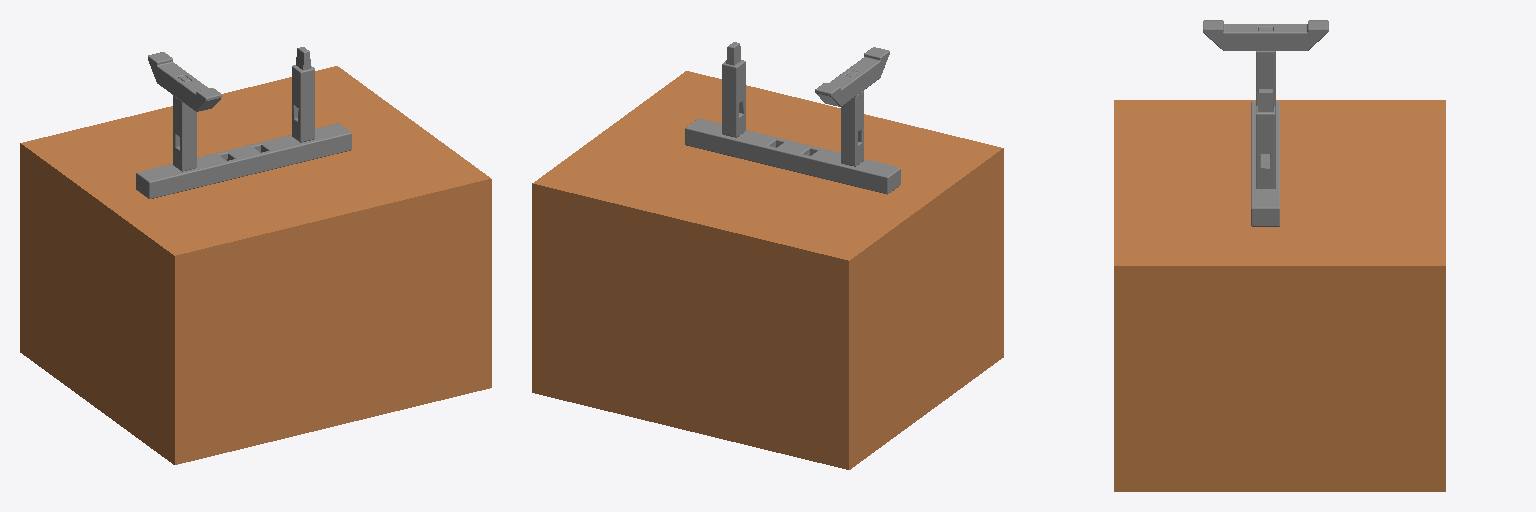
URDF robot description (table_beam_2x_1_scene_0040):
<?xml version="1.0"?>
<robot name="table_beam_2x_1_scene_0040">
  <link name="box">
    <visual>
      <material name="wood"><color rgba="0.82 0.56 0.35 1.0"/></material>
      <origin xyz="0 0 0"/>
      <geometry><box size="0.475 0.4 0.3"/></geometry>
    </visual>
    <collision>
      <origin xyz="0 0 0"/>
      <geometry><box size="0.475 0.4 0.3"/></geometry>
    </collision>
    <inertial>
      <mass value="500"/>
      <friction value="1.0"/>
      <inertia ixx="1000.0" ixy="0.0" ixz="0.0" iyy="1000.0" iyz="0.0" izz="1000.0"/>
    </inertial>
  </link>
  <link name="part_6_canonical">
    <visual>
      <origin xyz="0 0 0" rpy="0 0 0"/>
      <geometry><mesh filename="../../6/6_canonical.obj" scale="1 1 1"/></geometry>
      <material name="placed_0"><color rgba="0.6 0.6 0.6 1.0"/></material>
    </visual>
    <collision>
      <origin xyz="0 0 0" rpy="0 0 0"/>
      <geometry><mesh filename="../../6/6_canonical.obj" scale="1 1 1"/></geometry>
    </collision>
  </link>
  <joint name="part_6_canonical_joint" type="fixed">
    <parent link="box"/>
    <child link="part_6_canonical"/>
    <origin xyz="-0.027656 -0.017360 0.162666" rpy="0.000000 0.000000 0.000000"/>
  </joint>
  <link name="part_2_canonical">
    <visual>
      <origin xyz="0 0 0" rpy="0 0 0"/>
      <geometry><mesh filename="../../2/2_canonical.obj" scale="1 1 1"/></geometry>
      <material name="placed_1"><color rgba="0.6 0.6 0.6 1.0"/></material>
    </visual>
    <collision>
      <origin xyz="0 0 0" rpy="0 0 0"/>
      <geometry><mesh filename="../../2/2_canonical.obj" scale="1 1 1"/></geometry>
    </collision>
  </link>
  <joint name="part_2_canonical_joint" type="fixed">
    <parent link="box"/>
    <child link="part_2_canonical"/>
    <origin xyz="-0.116583 -0.017360 0.225384" rpy="0.000000 -1.570796 0.000000"/>
  </joint>
  <link name="part_0_canonical">
    <visual>
      <origin xyz="0 0 0" rpy="0 0 0"/>
      <geometry><mesh filename="../../0/0_canonical.obj" scale="1 1 1"/></geometry>
      <material name="placed_2"><color rgba="0.6 0.6 0.6 1.0"/></material>
    </visual>
    <collision>
      <origin xyz="0 0 0" rpy="0 0 0"/>
      <geometry><mesh filename="../../0/0_canonical.obj" scale="1 1 1"/></geometry>
    </collision>
  </link>
  <joint name="part_0_canonical_joint" type="fixed">
    <parent link="box"/>
    <child link="part_0_canonical"/>
    <origin xyz="-0.116556 -0.017360 0.292243" rpy="1.570796 0.000000 -1.570796"/>
  </joint>
  <link name="part_3_hull_0">
    <visual>
      <origin xyz="0 0 0" rpy="0 0 0"/>
      <geometry><mesh filename="../../3/coacd/decomp_0.obj" scale="1 1 1"/></geometry>
      <material name="placed_3"><color rgba="0.6 0.6 0.6 1.0"/></material>
    </visual>
    <collision>
      <origin xyz="0 0 0" rpy="0 0 0"/>
      <geometry><mesh filename="../../3/coacd/decomp_0.obj" scale="1 1 1"/></geometry>
    </collision>
  </link>
  <joint name="part_3_hull_0_joint" type="fixed">
    <parent link="box"/>
    <child link="part_3_hull_0"/>
    <origin xyz="0.061271 -0.017360 0.225384" rpy="0.000000 -1.570796 0.000000"/>
  </joint>
  <link name="part_3_hull_1">
    <visual>
      <origin xyz="0 0 0" rpy="0 0 0"/>
      <geometry><mesh filename="../../3/coacd/decomp_1.obj" scale="1 1 1"/></geometry>
      <material name="placed_4"><color rgba="0.6 0.6 0.6 1.0"/></material>
    </visual>
    <collision>
      <origin xyz="0 0 0" rpy="0 0 0"/>
      <geometry><mesh filename="../../3/coacd/decomp_1.obj" scale="1 1 1"/></geometry>
    </collision>
  </link>
  <joint name="part_3_hull_1_joint" type="fixed">
    <parent link="box"/>
    <child link="part_3_hull_1"/>
    <origin xyz="0.061271 -0.017360 0.225384" rpy="0.000000 -1.570796 0.000000"/>
  </joint>
  <link name="part_3_hull_2">
    <visual>
      <origin xyz="0 0 0" rpy="0 0 0"/>
      <geometry><mesh filename="../../3/coacd/decomp_10.obj" scale="1 1 1"/></geometry>
      <material name="placed_5"><color rgba="0.6 0.6 0.6 1.0"/></material>
    </visual>
    <collision>
      <origin xyz="0 0 0" rpy="0 0 0"/>
      <geometry><mesh filename="../../3/coacd/decomp_10.obj" scale="1 1 1"/></geometry>
    </collision>
  </link>
  <joint name="part_3_hull_2_joint" type="fixed">
    <parent link="box"/>
    <child link="part_3_hull_2"/>
    <origin xyz="0.061271 -0.017360 0.225384" rpy="0.000000 -1.570796 0.000000"/>
  </joint>
  <link name="part_3_hull_3">
    <visual>
      <origin xyz="0 0 0" rpy="0 0 0"/>
      <geometry><mesh filename="../../3/coacd/decomp_11.obj" scale="1 1 1"/></geometry>
      <material name="placed_6"><color rgba="0.6 0.6 0.6 1.0"/></material>
    </visual>
    <collision>
      <origin xyz="0 0 0" rpy="0 0 0"/>
      <geometry><mesh filename="../../3/coacd/decomp_11.obj" scale="1 1 1"/></geometry>
    </collision>
  </link>
  <joint name="part_3_hull_3_joint" type="fixed">
    <parent link="box"/>
    <child link="part_3_hull_3"/>
    <origin xyz="0.061271 -0.017360 0.225384" rpy="0.000000 -1.570796 0.000000"/>
  </joint>
  <link name="part_3_hull_4">
    <visual>
      <origin xyz="0 0 0" rpy="0 0 0"/>
      <geometry><mesh filename="../../3/coacd/decomp_12.obj" scale="1 1 1"/></geometry>
      <material name="placed_7"><color rgba="0.6 0.6 0.6 1.0"/></material>
    </visual>
    <collision>
      <origin xyz="0 0 0" rpy="0 0 0"/>
      <geometry><mesh filename="../../3/coacd/decomp_12.obj" scale="1 1 1"/></geometry>
    </collision>
  </link>
  <joint name="part_3_hull_4_joint" type="fixed">
    <parent link="box"/>
    <child link="part_3_hull_4"/>
    <origin xyz="0.061271 -0.017360 0.225384" rpy="0.000000 -1.570796 0.000000"/>
  </joint>
  <link name="part_3_hull_5">
    <visual>
      <origin xyz="0 0 0" rpy="0 0 0"/>
      <geometry><mesh filename="../../3/coacd/decomp_2.obj" scale="1 1 1"/></geometry>
      <material name="placed_8"><color rgba="0.6 0.6 0.6 1.0"/></material>
    </visual>
    <collision>
      <origin xyz="0 0 0" rpy="0 0 0"/>
      <geometry><mesh filename="../../3/coacd/decomp_2.obj" scale="1 1 1"/></geometry>
    </collision>
  </link>
  <joint name="part_3_hull_5_joint" type="fixed">
    <parent link="box"/>
    <child link="part_3_hull_5"/>
    <origin xyz="0.061271 -0.017360 0.225384" rpy="0.000000 -1.570796 0.000000"/>
  </joint>
  <link name="part_3_hull_6">
    <visual>
      <origin xyz="0 0 0" rpy="0 0 0"/>
      <geometry><mesh filename="../../3/coacd/decomp_3.obj" scale="1 1 1"/></geometry>
      <material name="placed_9"><color rgba="0.6 0.6 0.6 1.0"/></material>
    </visual>
    <collision>
      <origin xyz="0 0 0" rpy="0 0 0"/>
      <geometry><mesh filename="../../3/coacd/decomp_3.obj" scale="1 1 1"/></geometry>
    </collision>
  </link>
  <joint name="part_3_hull_6_joint" type="fixed">
    <parent link="box"/>
    <child link="part_3_hull_6"/>
    <origin xyz="0.061271 -0.017360 0.225384" rpy="0.000000 -1.570796 0.000000"/>
  </joint>
  <link name="part_3_hull_7">
    <visual>
      <origin xyz="0 0 0" rpy="0 0 0"/>
      <geometry><mesh filename="../../3/coacd/decomp_4.obj" scale="1 1 1"/></geometry>
      <material name="placed_10"><color rgba="0.6 0.6 0.6 1.0"/></material>
    </visual>
    <collision>
      <origin xyz="0 0 0" rpy="0 0 0"/>
      <geometry><mesh filename="../../3/coacd/decomp_4.obj" scale="1 1 1"/></geometry>
    </collision>
  </link>
  <joint name="part_3_hull_7_joint" type="fixed">
    <parent link="box"/>
    <child link="part_3_hull_7"/>
    <origin xyz="0.061271 -0.017360 0.225384" rpy="0.000000 -1.570796 0.000000"/>
  </joint>
  <link name="part_3_hull_8">
    <visual>
      <origin xyz="0 0 0" rpy="0 0 0"/>
      <geometry><mesh filename="../../3/coacd/decomp_5.obj" scale="1 1 1"/></geometry>
      <material name="placed_11"><color rgba="0.6 0.6 0.6 1.0"/></material>
    </visual>
    <collision>
      <origin xyz="0 0 0" rpy="0 0 0"/>
      <geometry><mesh filename="../../3/coacd/decomp_5.obj" scale="1 1 1"/></geometry>
    </collision>
  </link>
  <joint name="part_3_hull_8_joint" type="fixed">
    <parent link="box"/>
    <child link="part_3_hull_8"/>
    <origin xyz="0.061271 -0.017360 0.225384" rpy="0.000000 -1.570796 0.000000"/>
  </joint>
  <link name="part_3_hull_9">
    <visual>
      <origin xyz="0 0 0" rpy="0 0 0"/>
      <geometry><mesh filename="../../3/coacd/decomp_6.obj" scale="1 1 1"/></geometry>
      <material name="placed_12"><color rgba="0.6 0.6 0.6 1.0"/></material>
    </visual>
    <collision>
      <origin xyz="0 0 0" rpy="0 0 0"/>
      <geometry><mesh filename="../../3/coacd/decomp_6.obj" scale="1 1 1"/></geometry>
    </collision>
  </link>
  <joint name="part_3_hull_9_joint" type="fixed">
    <parent link="box"/>
    <child link="part_3_hull_9"/>
    <origin xyz="0.061271 -0.017360 0.225384" rpy="0.000000 -1.570796 0.000000"/>
  </joint>
  <link name="part_3_hull_10">
    <visual>
      <origin xyz="0 0 0" rpy="0 0 0"/>
      <geometry><mesh filename="../../3/coacd/decomp_7.obj" scale="1 1 1"/></geometry>
      <material name="placed_13"><color rgba="0.6 0.6 0.6 1.0"/></material>
    </visual>
    <collision>
      <origin xyz="0 0 0" rpy="0 0 0"/>
      <geometry><mesh filename="../../3/coacd/decomp_7.obj" scale="1 1 1"/></geometry>
    </collision>
  </link>
  <joint name="part_3_hull_10_joint" type="fixed">
    <parent link="box"/>
    <child link="part_3_hull_10"/>
    <origin xyz="0.061271 -0.017360 0.225384" rpy="0.000000 -1.570796 0.000000"/>
  </joint>
  <link name="part_3_hull_11">
    <visual>
      <origin xyz="0 0 0" rpy="0 0 0"/>
      <geometry><mesh filename="../../3/coacd/decomp_8.obj" scale="1 1 1"/></geometry>
      <material name="placed_14"><color rgba="0.6 0.6 0.6 1.0"/></material>
    </visual>
    <collision>
      <origin xyz="0 0 0" rpy="0 0 0"/>
      <geometry><mesh filename="../../3/coacd/decomp_8.obj" scale="1 1 1"/></geometry>
    </collision>
  </link>
  <joint name="part_3_hull_11_joint" type="fixed">
    <parent link="box"/>
    <child link="part_3_hull_11"/>
    <origin xyz="0.061271 -0.017360 0.225384" rpy="0.000000 -1.570796 0.000000"/>
  </joint>
  <link name="part_3_hull_12">
    <visual>
      <origin xyz="0 0 0" rpy="0 0 0"/>
      <geometry><mesh filename="../../3/coacd/decomp_9.obj" scale="1 1 1"/></geometry>
      <material name="placed_15"><color rgba="0.6 0.6 0.6 1.0"/></material>
    </visual>
    <collision>
      <origin xyz="0 0 0" rpy="0 0 0"/>
      <geometry><mesh filename="../../3/coacd/decomp_9.obj" scale="1 1 1"/></geometry>
    </collision>
  </link>
  <joint name="part_3_hull_12_joint" type="fixed">
    <parent link="box"/>
    <child link="part_3_hull_12"/>
    <origin xyz="0.061271 -0.017360 0.225384" rpy="0.000000 -1.570796 0.000000"/>
  </joint>
</robot>

--- Render facts (derived) ---
Views: 3 orthographic renders of the robot side by side, from view 1: azimuth 30°, elevation 25°; view 2: azimuth 150°, elevation 25°; view 3: azimuth 270°, elevation 25°.
Robot: table_beam_2x_1_scene_0040 — 17 links, 16 joints (16 fixed); root link box; default pose: all joints at 0.
Links seen in each view (by area): view 1: box, part_6_canonical, part_0_canonical, part_2_canonical, part_3_hull_7; view 2: box, part_6_canonical, part_0_canonical, part_2_canonical, part_3_hull_11; view 3: box, part_0_canonical, part_6_canonical, part_2_canonical, part_3_hull_0.
Boxes of the visible links, x1,y1,x2,y2 form: box: [20, 66, 491, 464]; part_6_canonical: [136, 123, 351, 198]; part_0_canonical: [148, 52, 221, 111]; part_2_canonical: [173, 76, 196, 171]; part_3_hull_7: [304, 69, 311, 141]; box: [532, 71, 1003, 469]; part_6_canonical: [685, 118, 900, 194]; part_0_canonical: [815, 47, 889, 106]; part_2_canonical: [841, 71, 863, 166]; part_3_hull_11: [725, 64, 732, 136]; box: [1114, 100, 1445, 491]; part_0_canonical: [1203, 20, 1328, 50]; part_6_canonical: [1251, 102, 1279, 226]; part_2_canonical: [1256, 27, 1275, 106]; part_3_hull_0: [1256, 112, 1275, 153].
Size in the robot's own frame: 0.475 by 0.4 by 0.4575 metres.
Meshes: 16 distinct files referenced, 16 mesh visuals loaded (16 OBJ).
